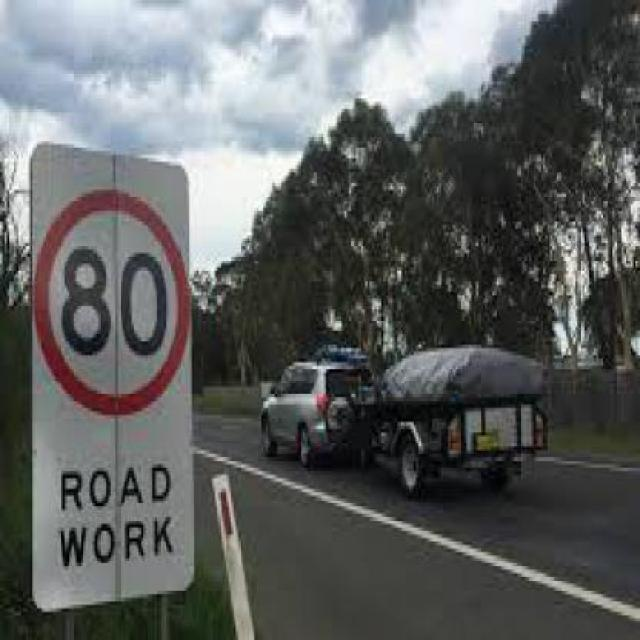traffic_sign: (32, 215, 190, 412)
